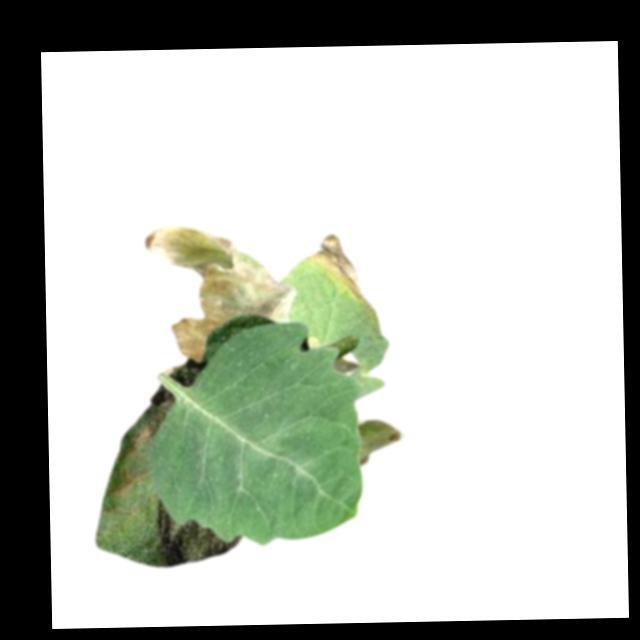Late_blight: (144, 222, 302, 360), (310, 232, 367, 299), (360, 418, 406, 465), (107, 467, 152, 501), (125, 425, 154, 454)
healthy: (157, 319, 388, 546)
